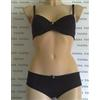mutande: (26, 69, 81, 97)
reggiseno: (30, 4, 75, 39)
